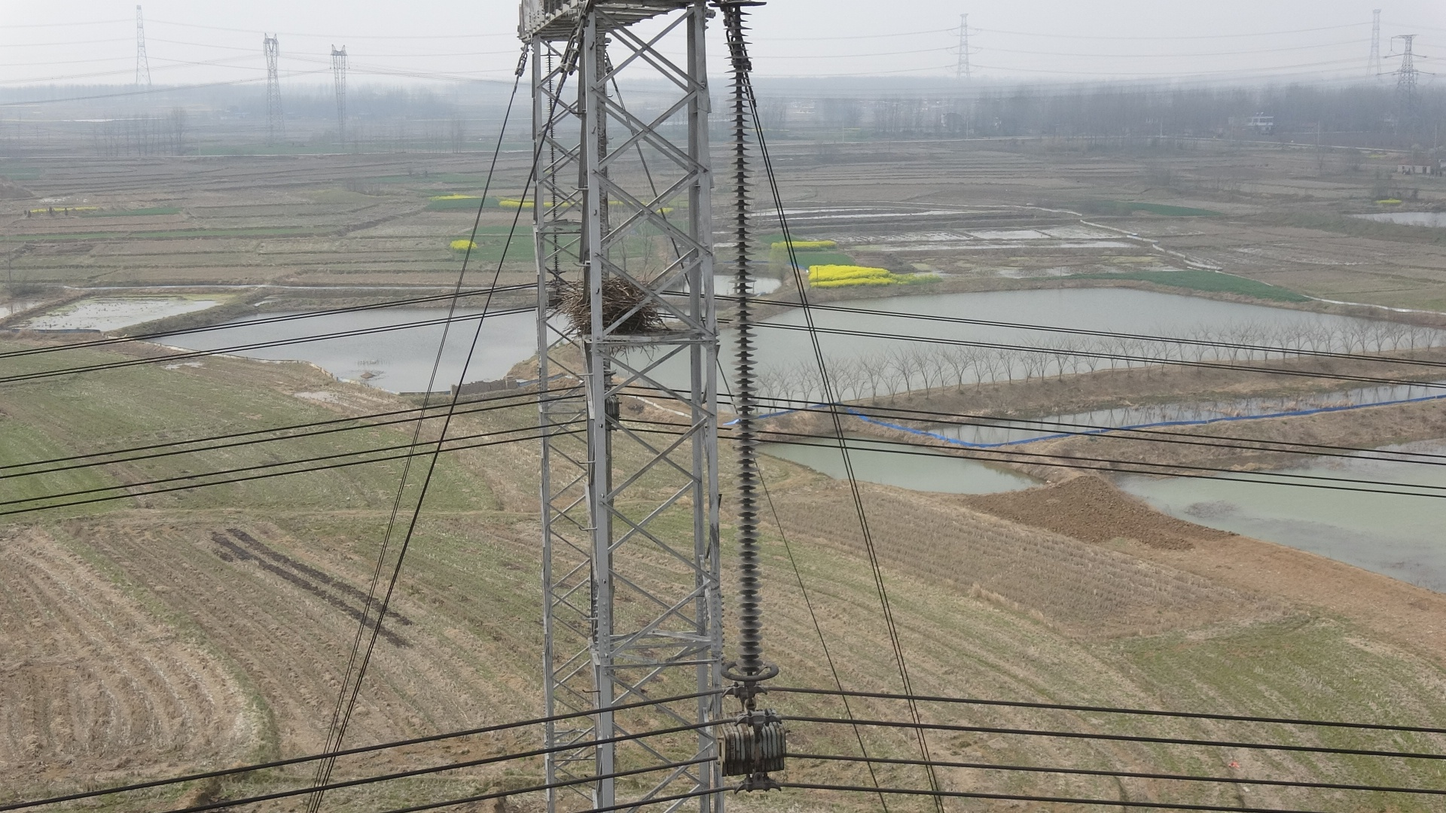insulator: (720, 9, 767, 673), (545, 53, 563, 273)
